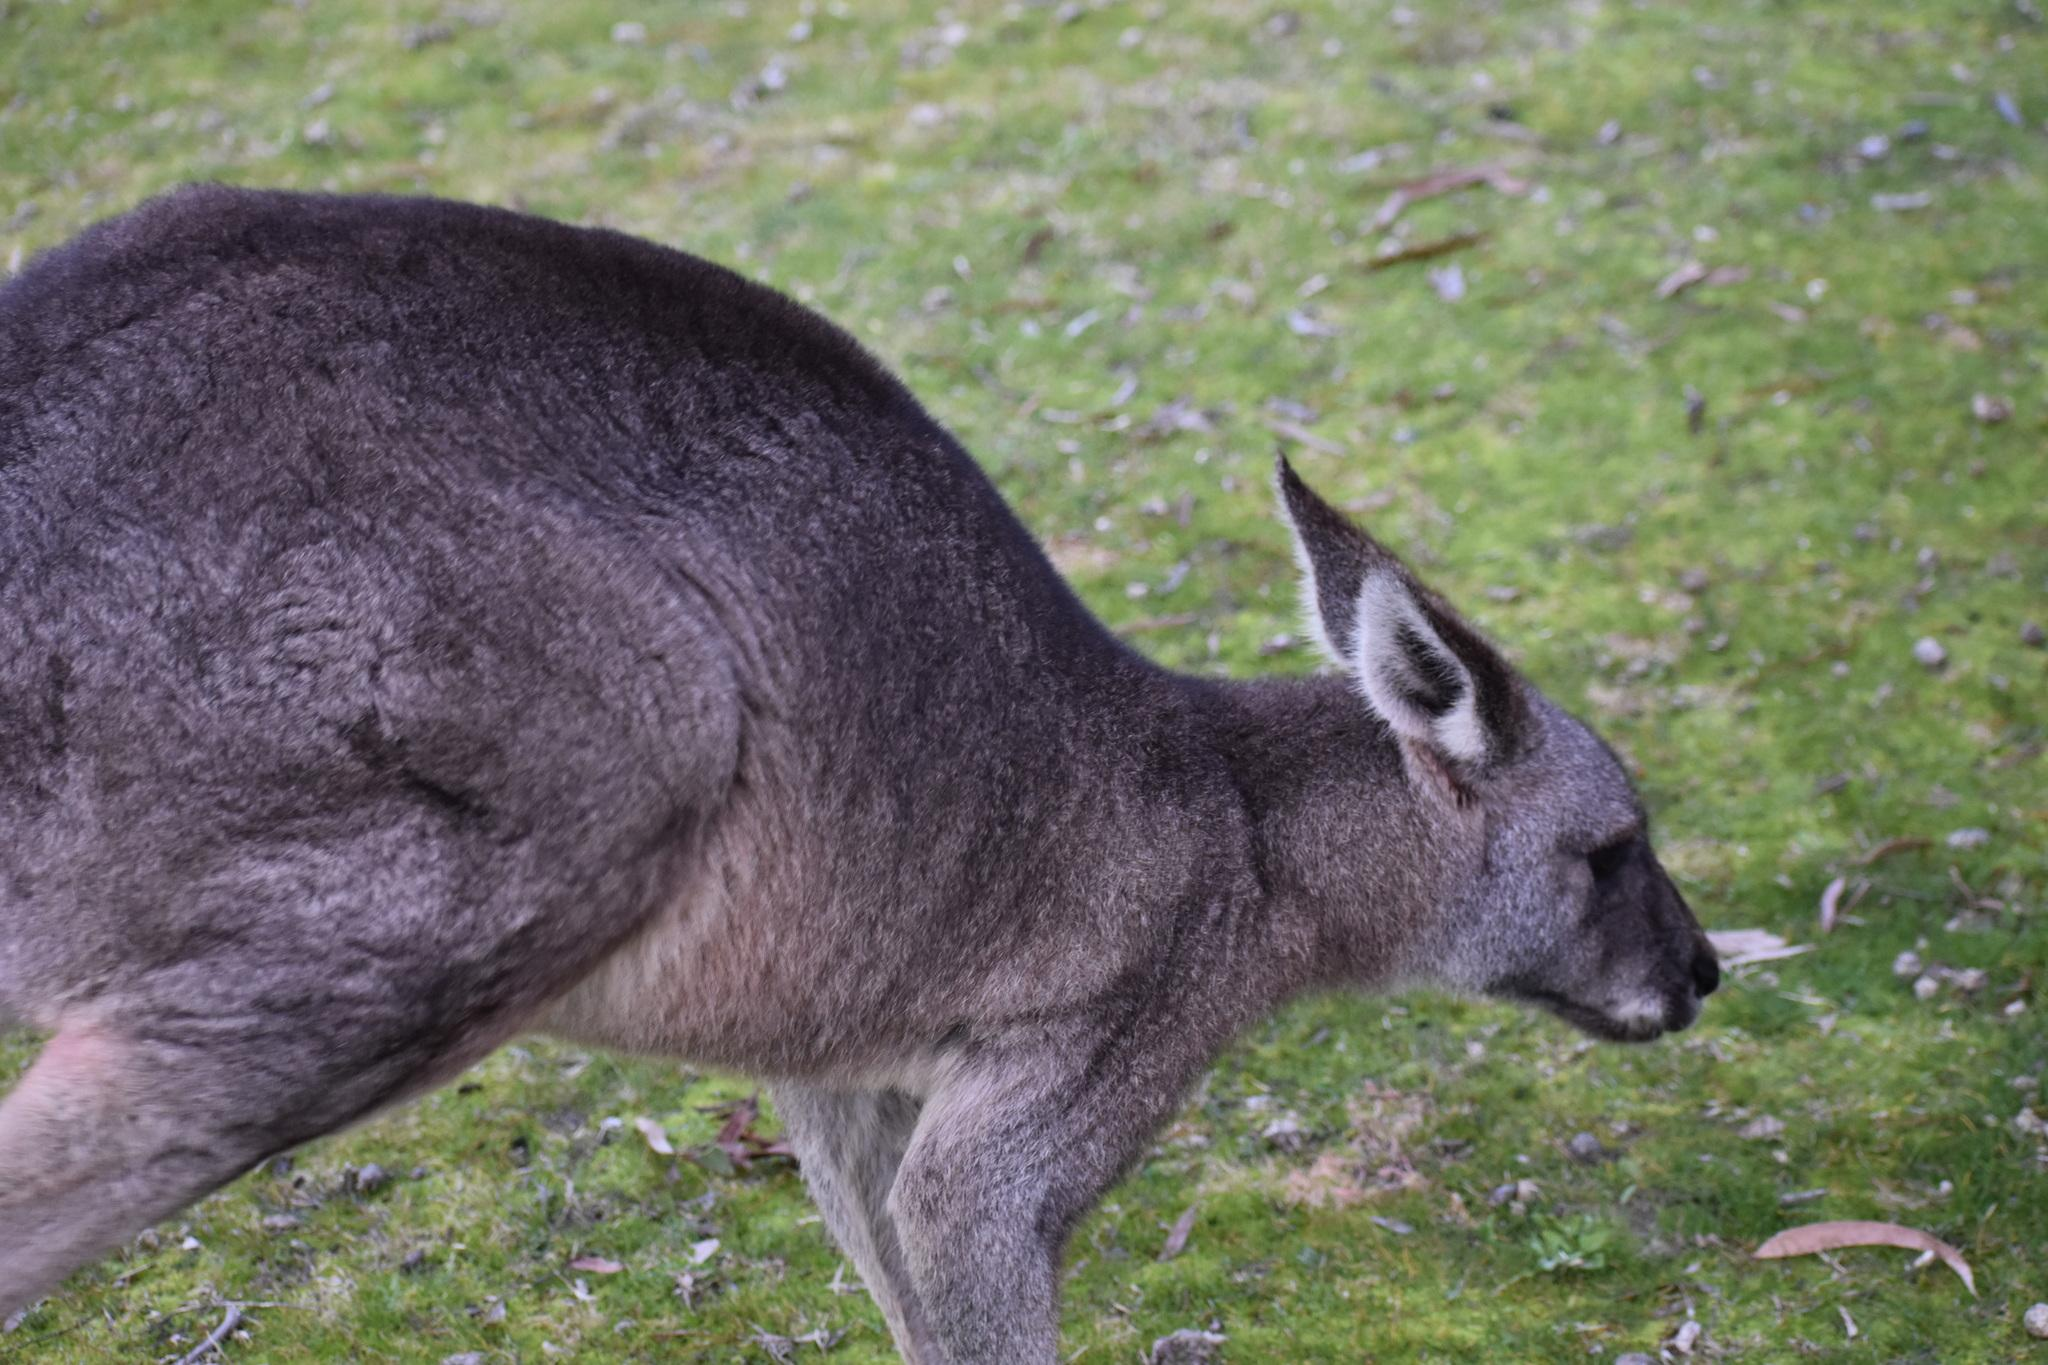Eastern grey kangaroo: (0, 171, 1730, 1365)
